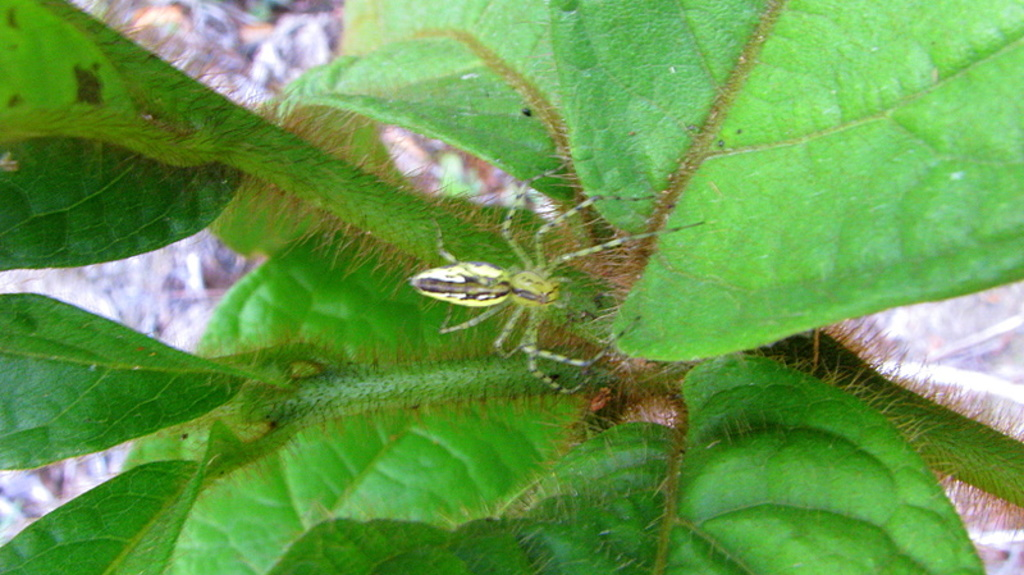Animal: (407, 159, 708, 392)
